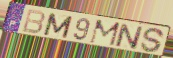9: (72, 18, 91, 41)
B: (20, 8, 46, 35)
M: (88, 19, 122, 48), (42, 12, 75, 40)
N: (114, 23, 144, 51)
S: (139, 27, 166, 54)
